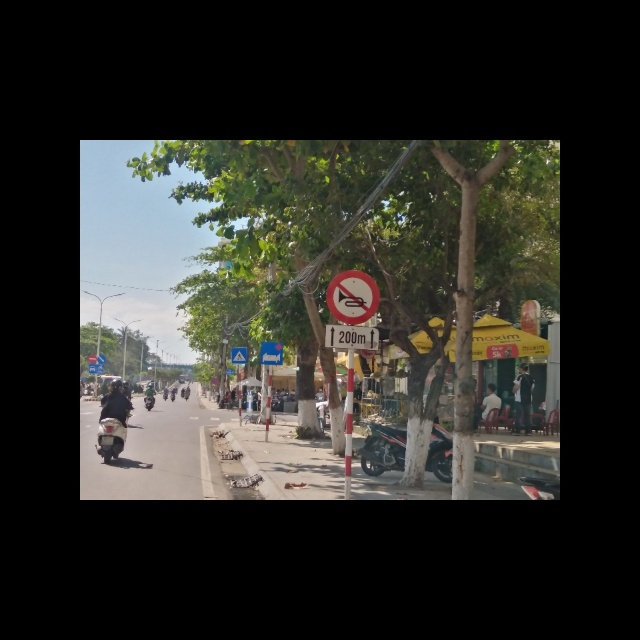Bệnh viện: (261, 341, 283, 366)
Cấm bấm còi: (326, 270, 381, 327)
Đường dành cho người đi bộ: (230, 347, 248, 364)
